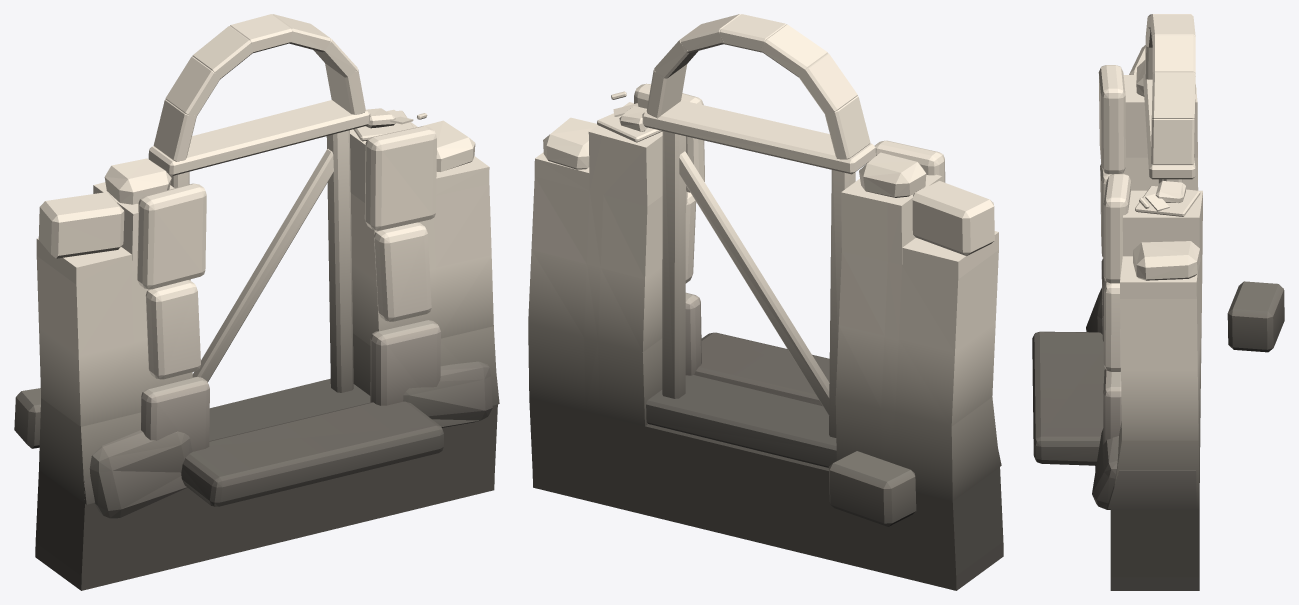
The model's file is SM_VK_Wall_Stone_Half_Door.fbx.
3 renders of one model, left to right at view 1: azimuth 30°, elevation 25°; view 2: azimuth 150°, elevation 25°; view 3: azimuth 270°, elevation 25°, orthographic. The views are drawn at different scales.
Parts seen in each view (by area): view 1: SM_VK_Wall_Stone_Half_Door.001; view 2: SM_VK_Wall_Stone_Half_Door.001; view 3: SM_VK_Wall_Stone_Half_Door.001.
Boxes of the visible parts, x1=… form: SM_VK_Wall_Stone_Half_Door.001: x1=14, y1=14, x2=499, y2=590; SM_VK_Wall_Stone_Half_Door.001: x1=528, y1=14, x2=1003, y2=590; SM_VK_Wall_Stone_Half_Door.001: x1=1032, y1=14, x2=1284, y2=590.
Size of the model in its own units: 3.12 by 3.39 by 1.65.
